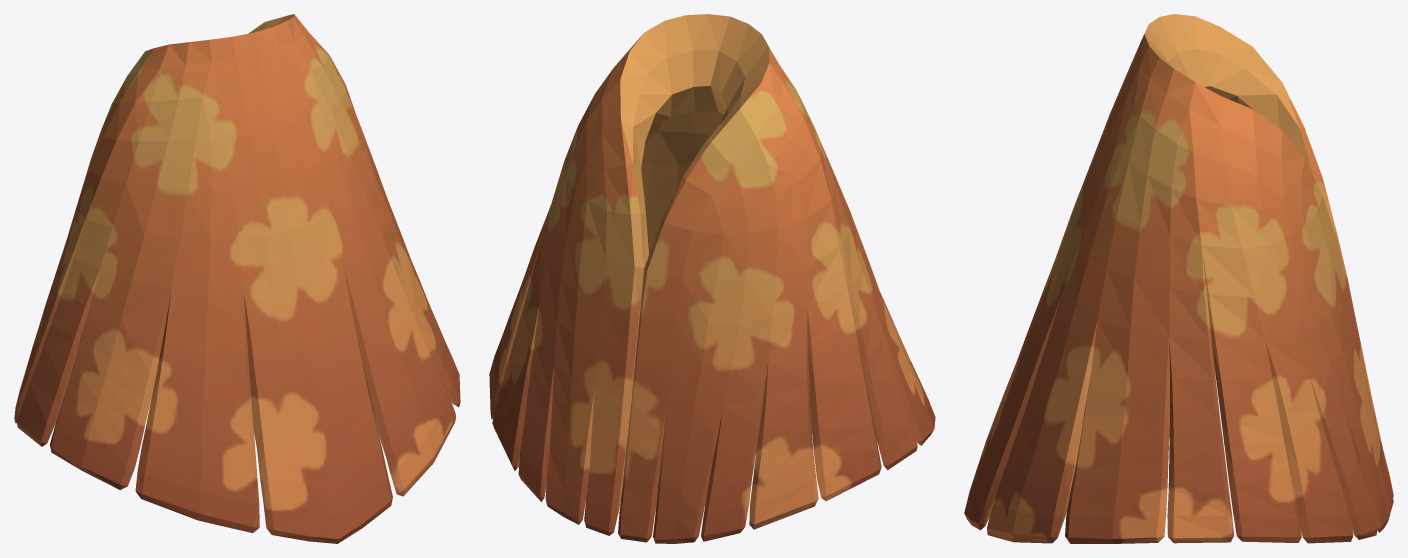
The model's file is CharSkyKid_Wing_AP07Aloha_01.glb.
The picture shows the model from 3 angles, left to right: view 1: azimuth 30°, elevation 25°; view 2: azimuth 150°, elevation 25°; view 3: azimuth 270°, elevation 25°; orthographic projection. The views are drawn at different scales.
Visible parts, largest first — view 1: CharSkyKid_Wing_AP07Aloha_01; view 2: CharSkyKid_Wing_AP07Aloha_01; view 3: CharSkyKid_Wing_AP07Aloha_01.
Part boxes in pixels (bbox=[...]): CharSkyKid_Wing_AP07Aloha_01: bbox=[14, 14, 460, 543]; CharSkyKid_Wing_AP07Aloha_01: bbox=[489, 14, 935, 543]; CharSkyKid_Wing_AP07Aloha_01: bbox=[964, 14, 1393, 543].
Bounding box in the file's own units: 6.47 × 6.93 × 5.56.
1 material, 1 textured.
